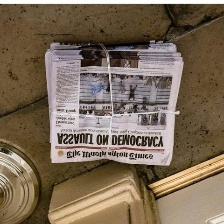news_paper: (44, 35, 186, 168)
